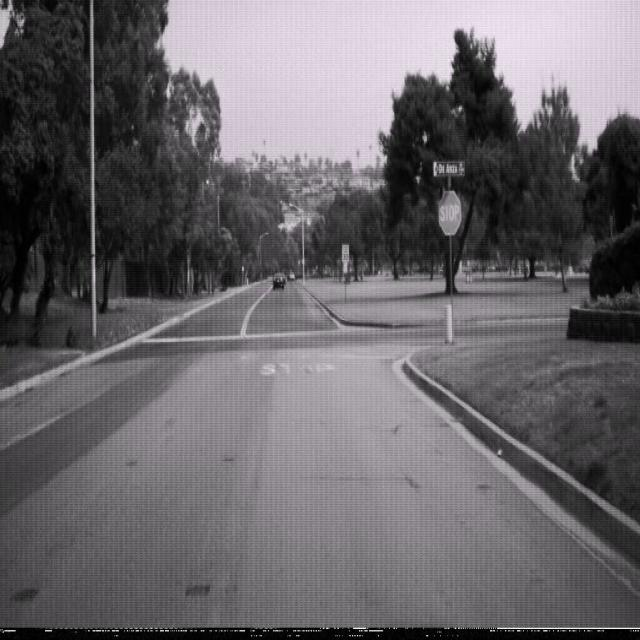stop_sign: (438, 189, 462, 235)
